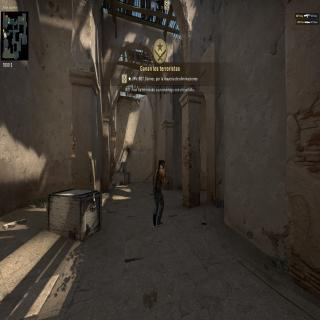T-Head: (161, 159, 165, 170)
